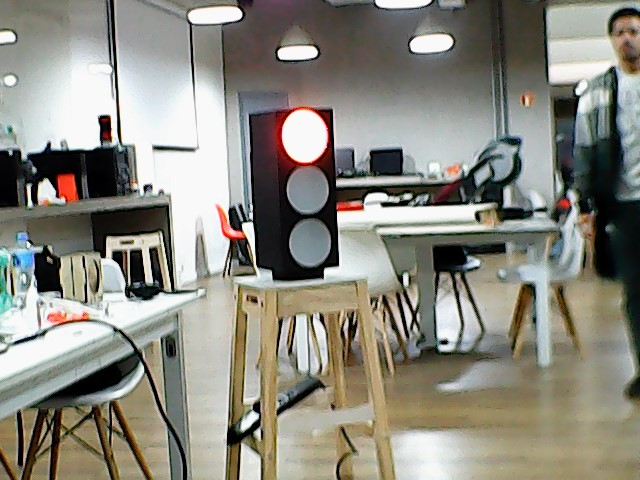vermelho: (248, 109, 342, 270)
